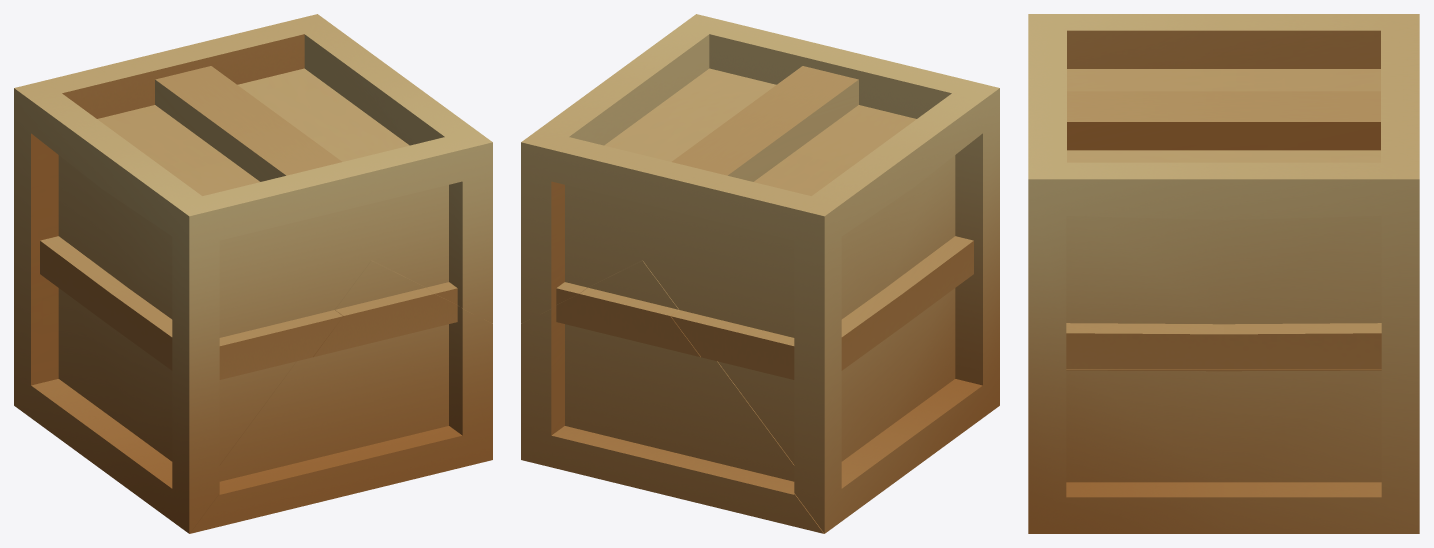
Rendered from CaixaQuebrada.fbx.
The picture shows the model from 3 angles, left to right: view 1: azimuth 30°, elevation 25°; view 2: azimuth 150°, elevation 25°; view 3: azimuth 270°, elevation 25°; orthographic projection. The views are drawn at different scales.
Parts seen in each view (by area): view 1: Parte3, Parte1, Parte2; view 2: Parte3, Parte1, Parte2; view 3: Parte1, Parte2, Parte3.
Boxes of the visible parts, box(x1,y1,x2,y2) form: Parte3: box(14, 73, 370, 533); Parte1: box(75, 14, 492, 323); Parte2: box(189, 260, 492, 533); Parte3: box(642, 74, 999, 533); Parte1: box(521, 14, 941, 323); Parte2: box(521, 260, 824, 533); Parte1: box(1028, 45, 1419, 381); Parte2: box(1028, 369, 1419, 533); Parte3: box(1028, 14, 1419, 91).
Bounding box in the file's own units: 200 × 200 × 200.
